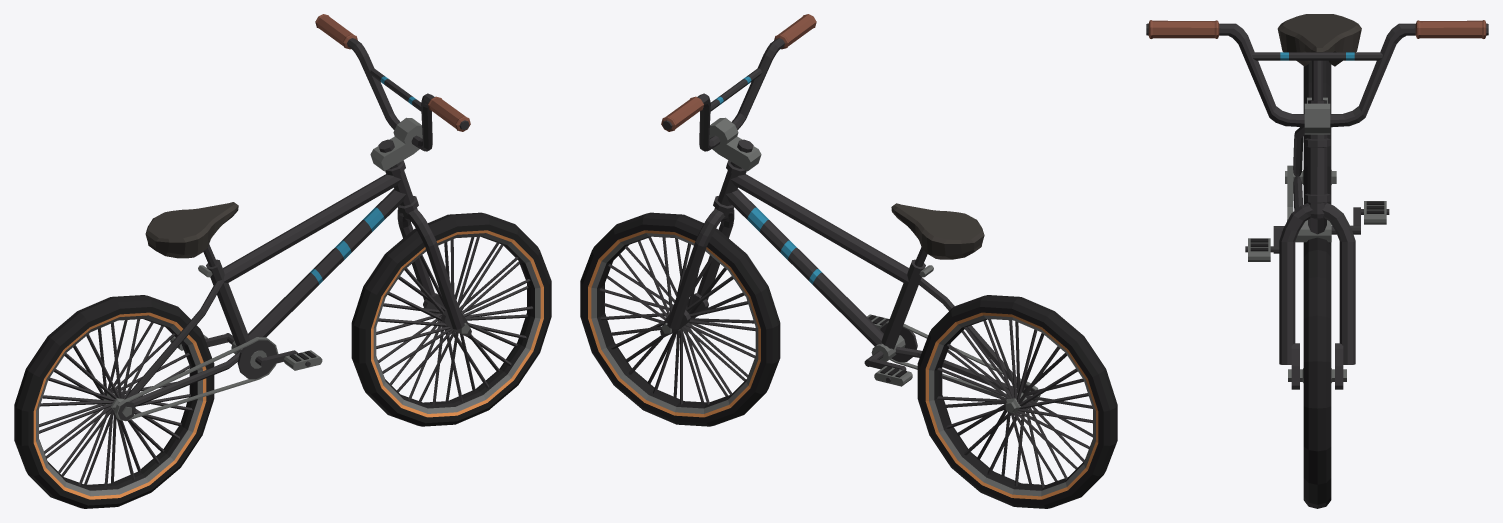
File: SM_Bicycle_01.gltf
3 renders of one model, left to right at view 1: azimuth 30°, elevation 25°; view 2: azimuth 150°, elevation 25°; view 3: azimuth 270°, elevation 25°, orthographic. The views are drawn at different scales.
Visible parts, largest first — view 1: SM_Bicycle_01; view 2: SM_Bicycle_01; view 3: SM_Bicycle_01.
Boxes of the visible parts, x1,y1,x2,y2 form: SM_Bicycle_01: (14,14,551,508); SM_Bicycle_01: (580,14,1117,508); SM_Bicycle_01: (1146,14,1488,508).
Bounding box in the file's own units: 1.85 × 1.24 × 0.8693.
1 material, 1 textured.
